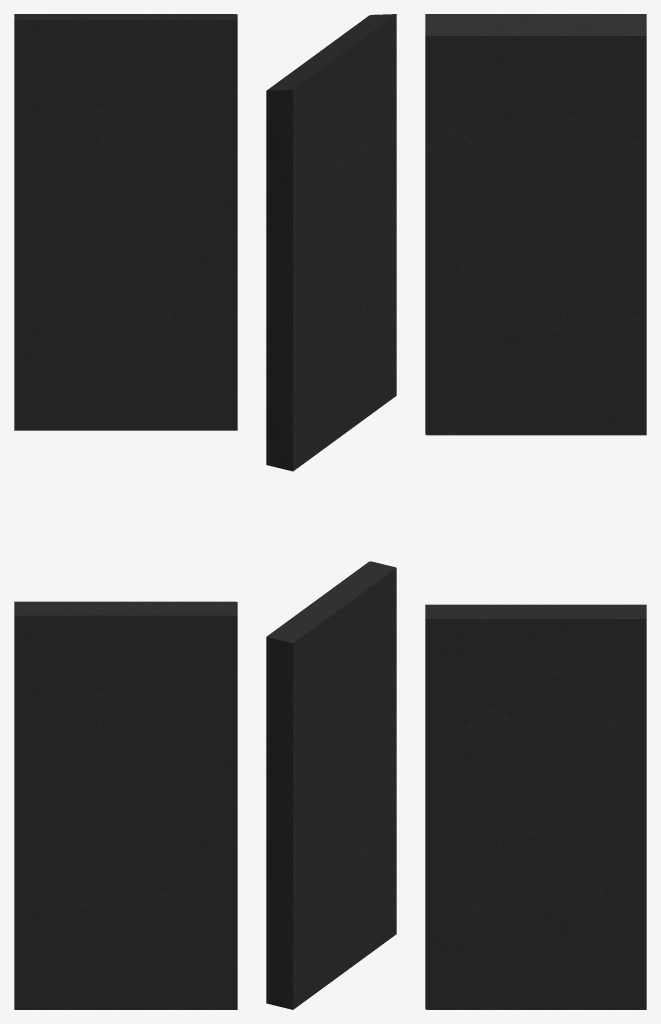
The model's file is A13.1.1 H.WALL. PNL 2031 UP + 1950 DWN.fbx.
3 renders of one model, left to right at view 1: azimuth 90°, elevation 25°; view 2: azimuth 150°, elevation 25°; view 3: azimuth 270°, elevation 25°, orthographic. The views are drawn at different scales.
Visible parts, largest first — view 1: Model, Group1; view 2: Model, Group1; view 3: Model, Group1.
Part boxes in pixels (x1,y1,x2,y2): Model: (14,14,237,430); Group1: (14,601,237,1009); Model: (266,14,396,471); Group1: (266,561,396,1009); Model: (425,14,646,435); Group1: (425,604,646,1009).
Size of the model in its own units: 150 by 4896 by 1000.
